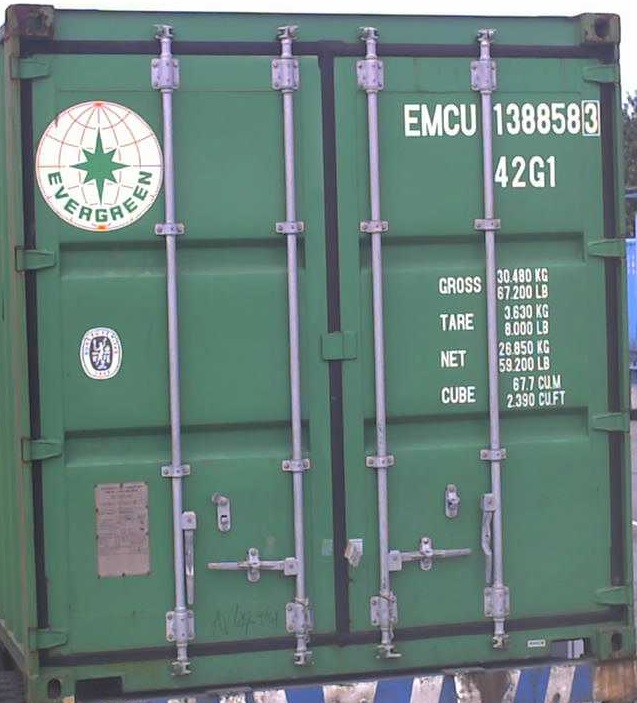container_door: (30, 1, 624, 698)
